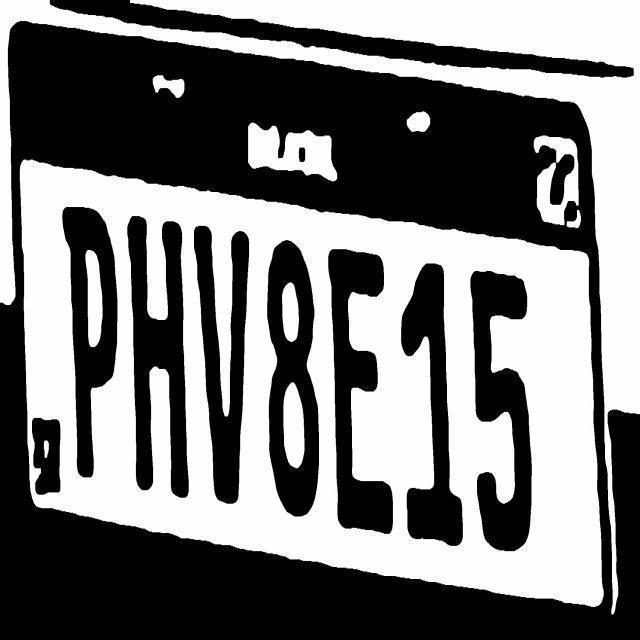1: (398, 261, 464, 554)
5: (468, 266, 534, 558)
8: (266, 233, 320, 516)
e: (326, 245, 394, 537)
h: (125, 204, 192, 506)
p: (60, 202, 120, 486)
v: (193, 220, 253, 507)
